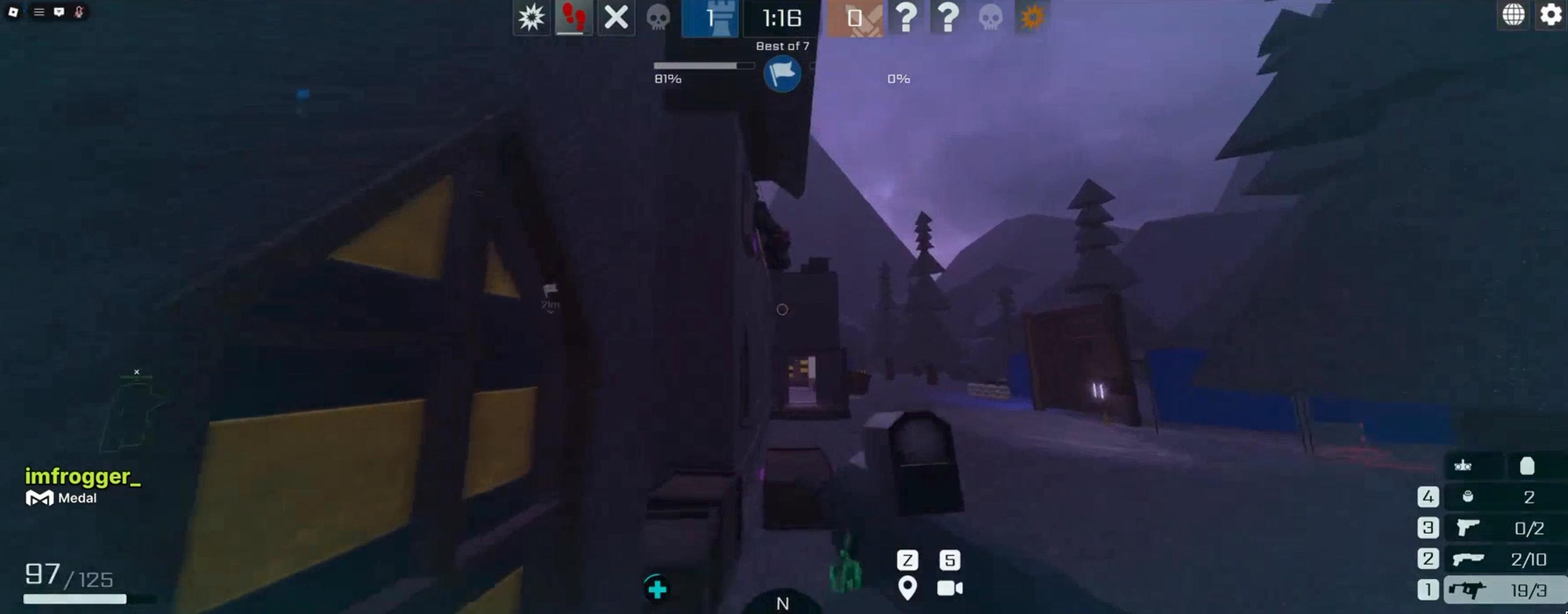enemy: (750, 197, 790, 271)
